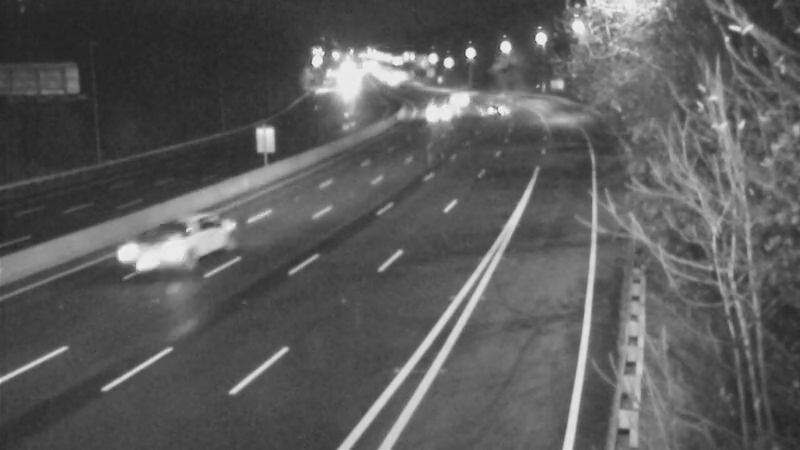vehicle: (112, 208, 192, 288), (433, 72, 483, 122), (467, 85, 517, 135), (409, 87, 459, 137)
